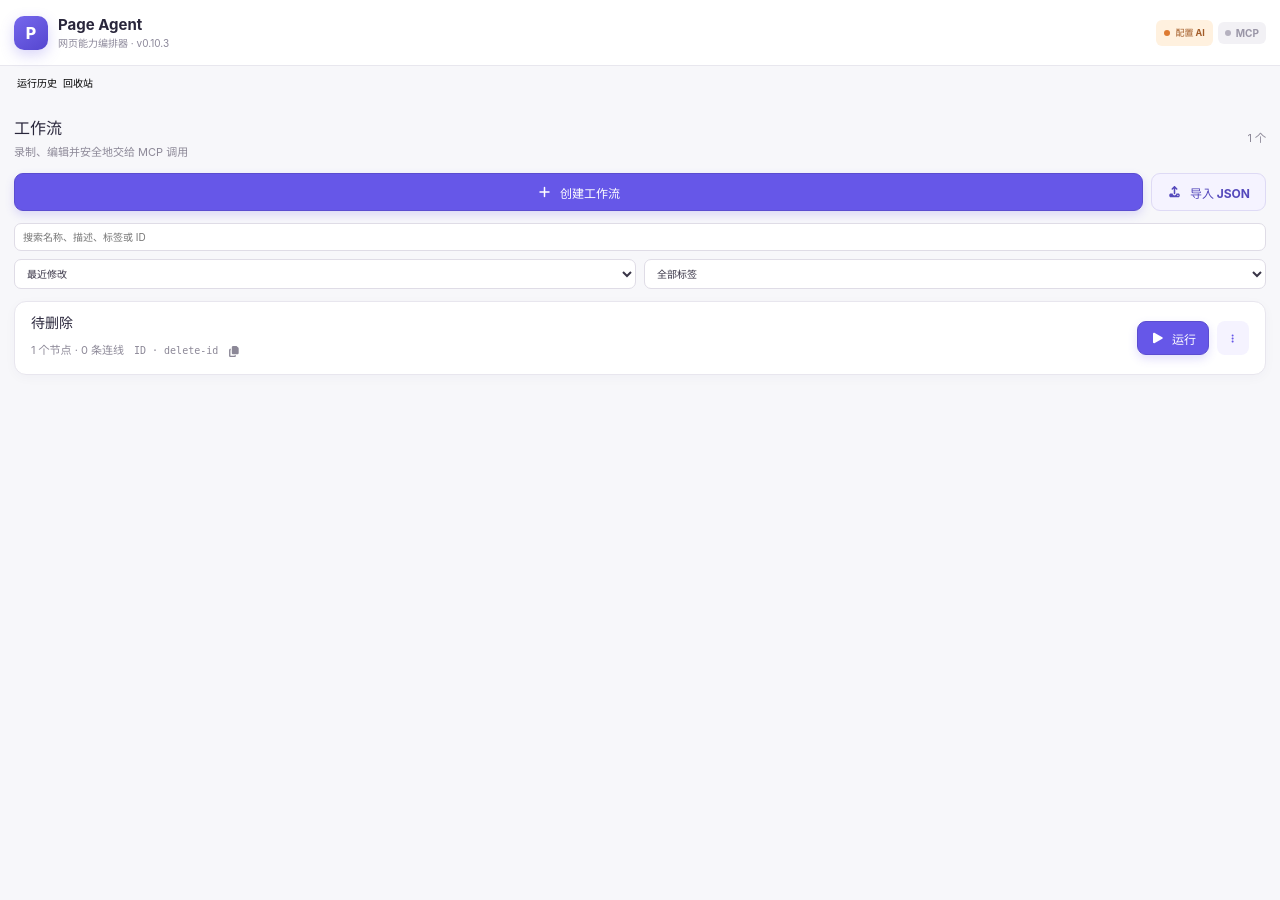
Scenario: cancels deletion without writing and retains the workflow on failure
The width and height of the screenshot is (1280, 900).
Click the button with class "more" at (1233, 338), box [1217,321,1249,355]
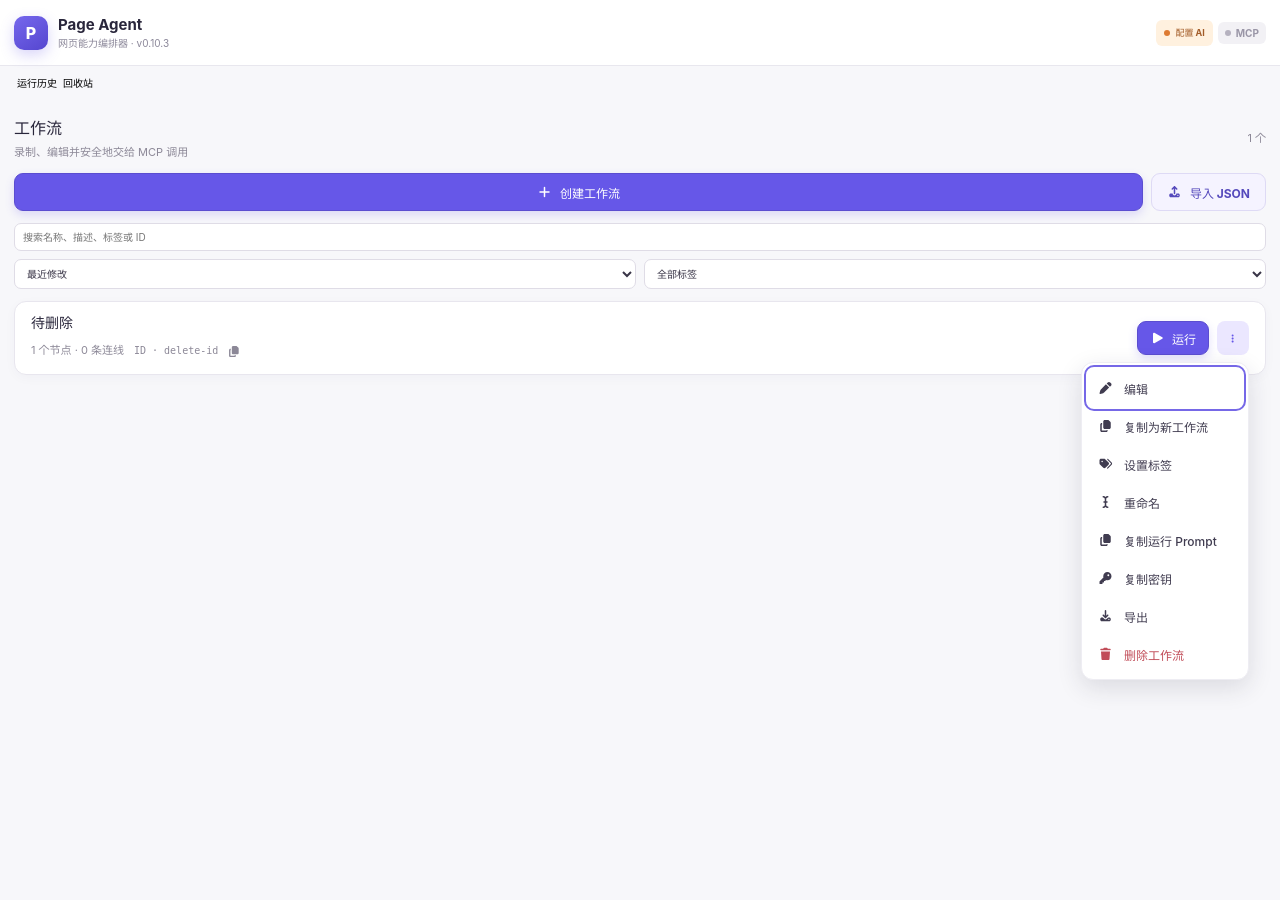
Click the menu item "删除工作流" at (1165, 654), box [1088,635,1242,673]
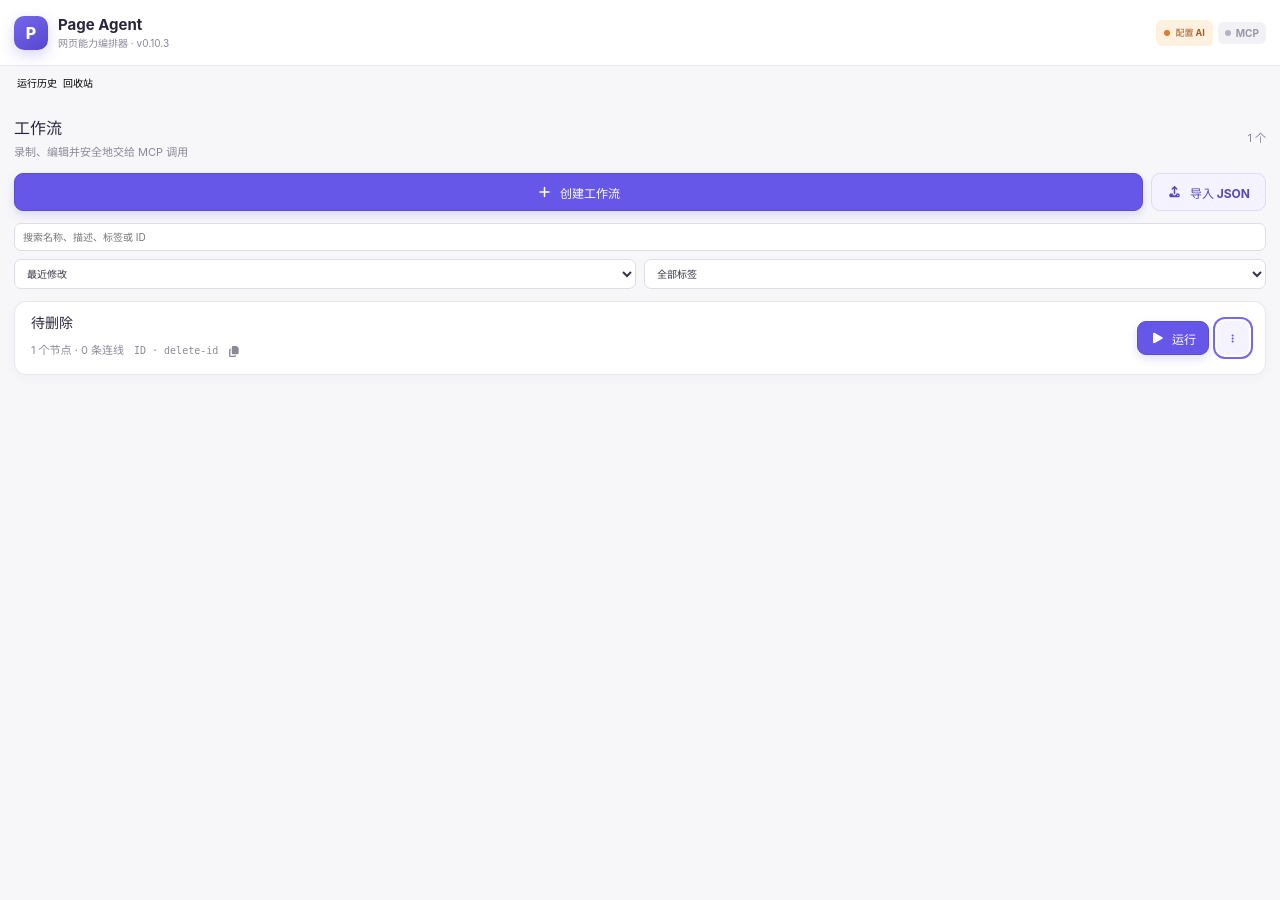
Click the button named "更多操作 · 待删除" at (1233, 338), box [1217,321,1249,355]
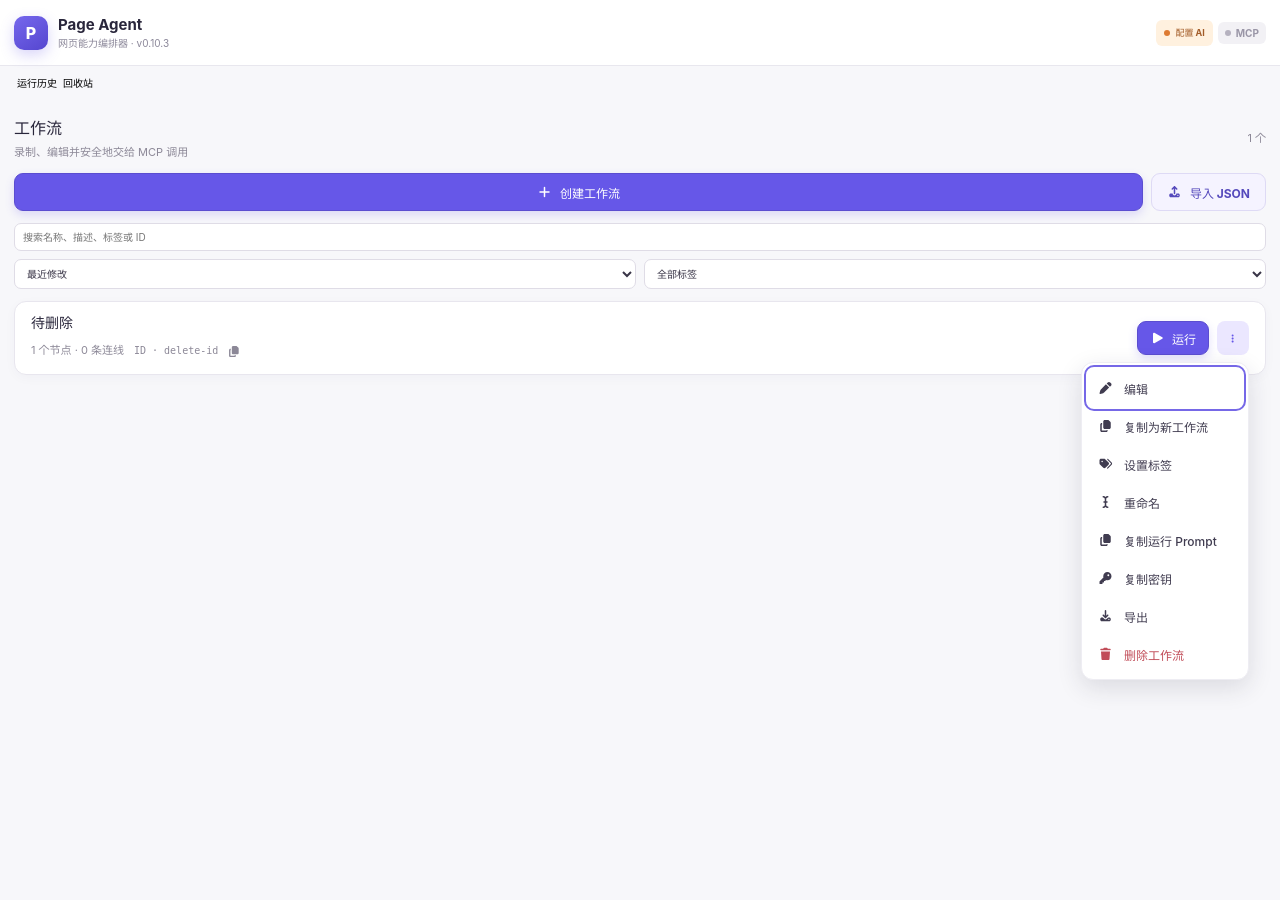
Click the menu item "删除工作流" at (1165, 654), box [1088,635,1242,673]
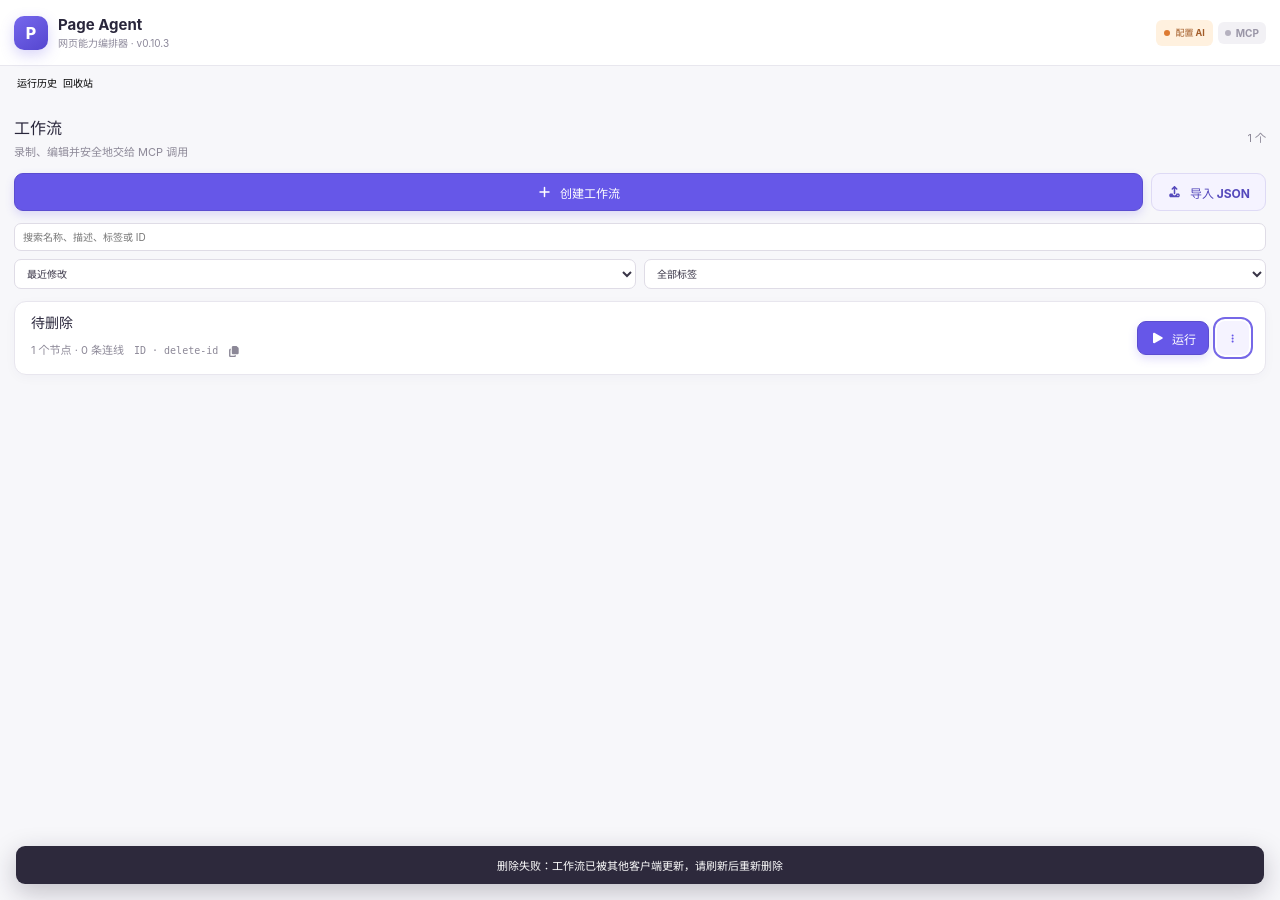
Check: the button "待删除" is shown, box [31,312,73,333]
Check: the message with class "toast" shows "其他客户端更新", box [497,859,783,873]
